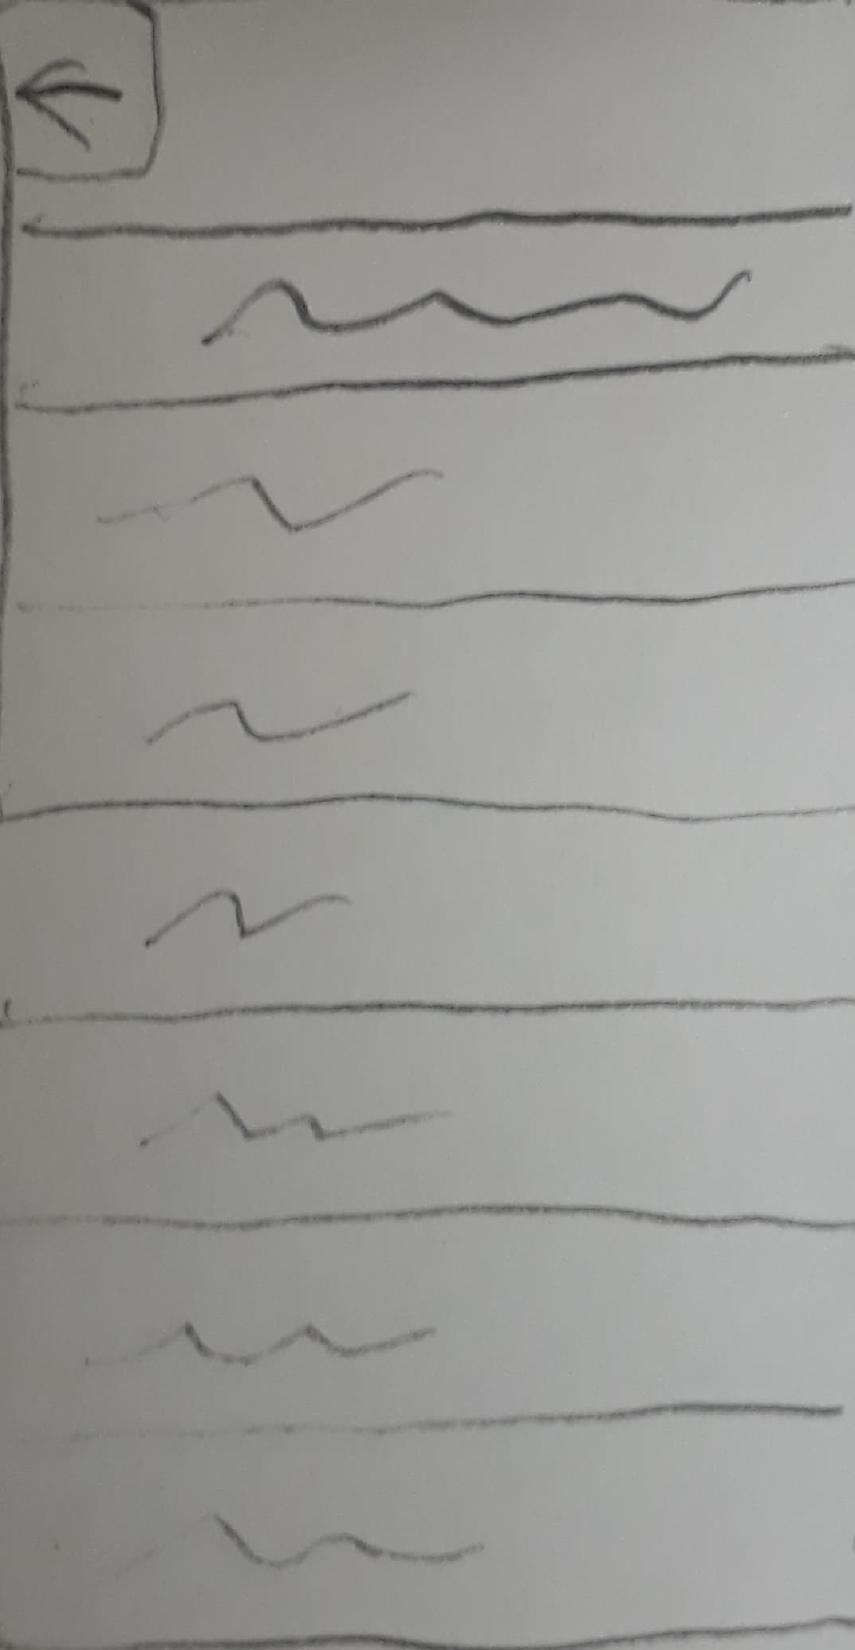Button: (2, 0, 158, 177)
Label: (197, 264, 757, 348), (118, 1512, 486, 1575), (91, 466, 444, 531), (136, 1091, 460, 1152), (86, 1315, 442, 1369), (141, 687, 413, 754), (143, 887, 355, 952)
Screen: (1, 0, 852, 1647)
